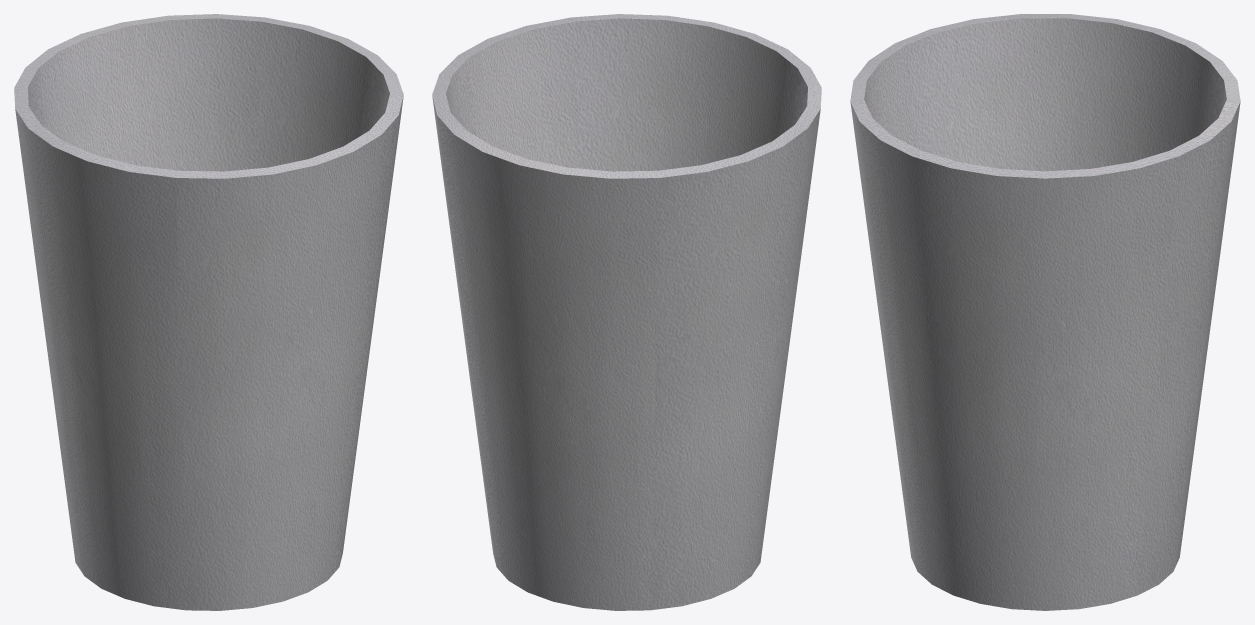
File: Disposable cup.fbx
The picture shows the model from 3 angles, left to right: view 1: azimuth 30°, elevation 25°; view 2: azimuth 150°, elevation 25°; view 3: azimuth 270°, elevation 25°; orthographic projection.
Visible parts, largest first — view 1: Disposable cup; view 2: Disposable cup; view 3: Disposable cup.
Part boxes in pixels (x1,y1,x2,y2): Disposable cup: (14,14,403,610); Disposable cup: (432,14,821,610); Disposable cup: (850,14,1240,610).
Size of the model in its own units: 5.32 by 6.98 by 5.33.
1 material, 1 textured.
